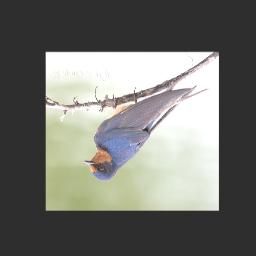Swallow: (83, 84, 209, 183)
